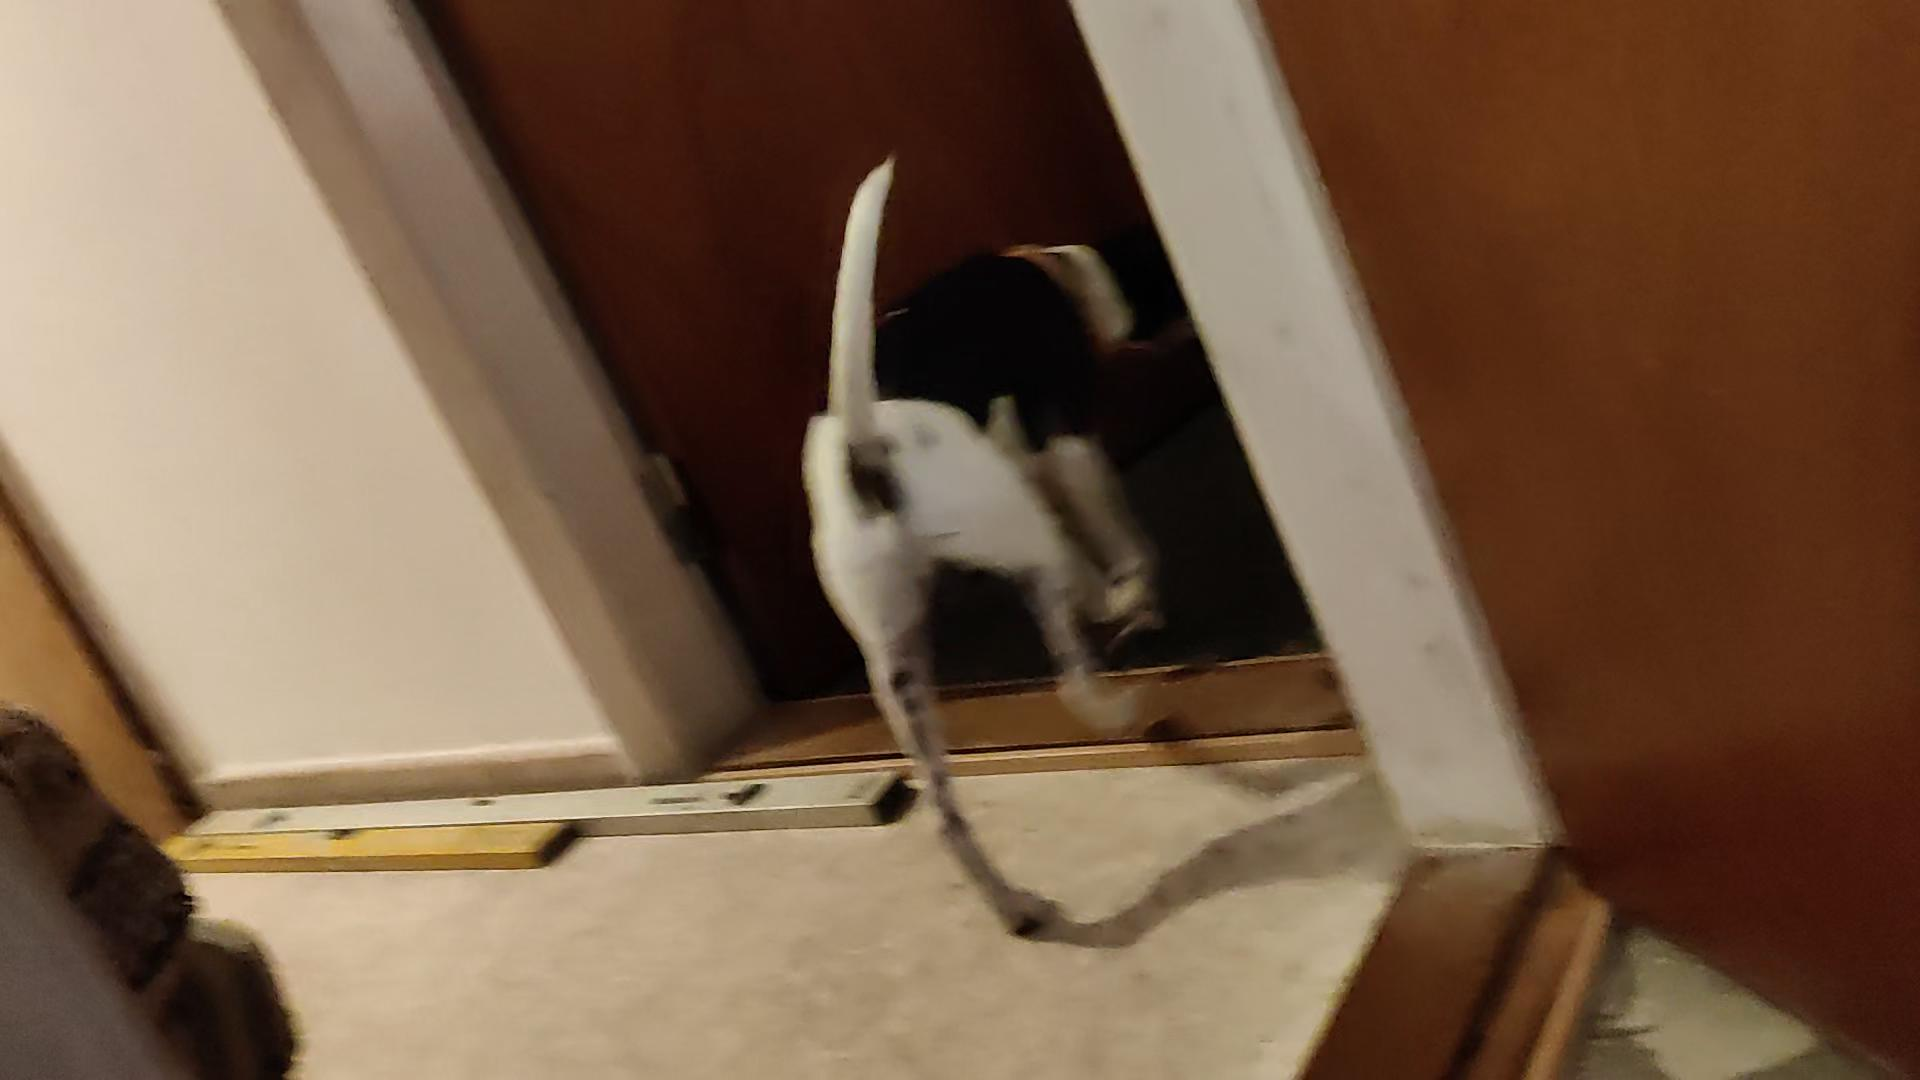Dog: (770, 136, 1234, 947)
